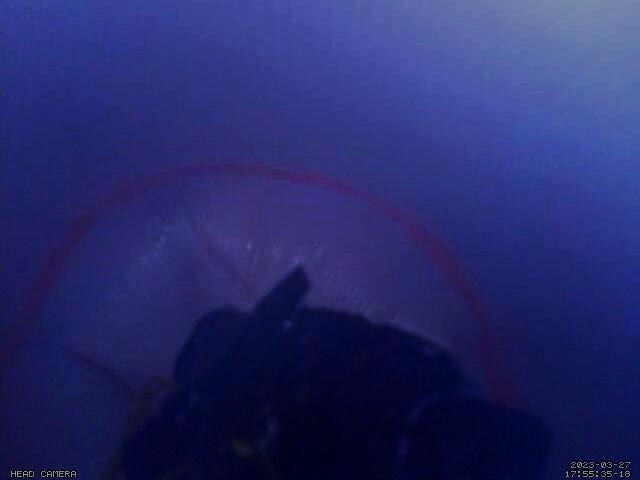head: (1, 160, 518, 409)
